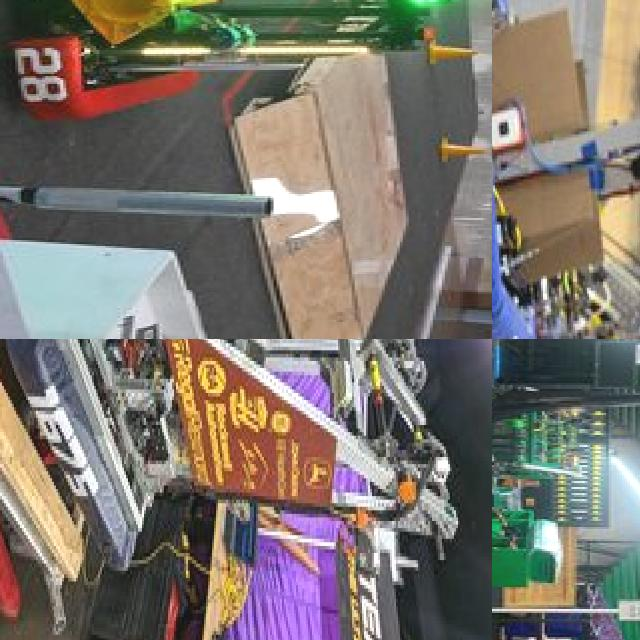FRC-Robots: (17, 339, 481, 597), (0, 0, 444, 153), (492, 0, 640, 339), (495, 192, 640, 339), (492, 370, 610, 506)
